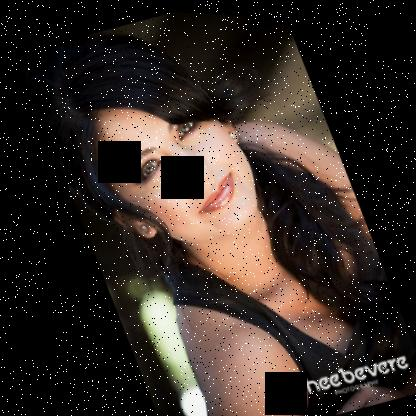Female: (69, 67, 271, 263)
